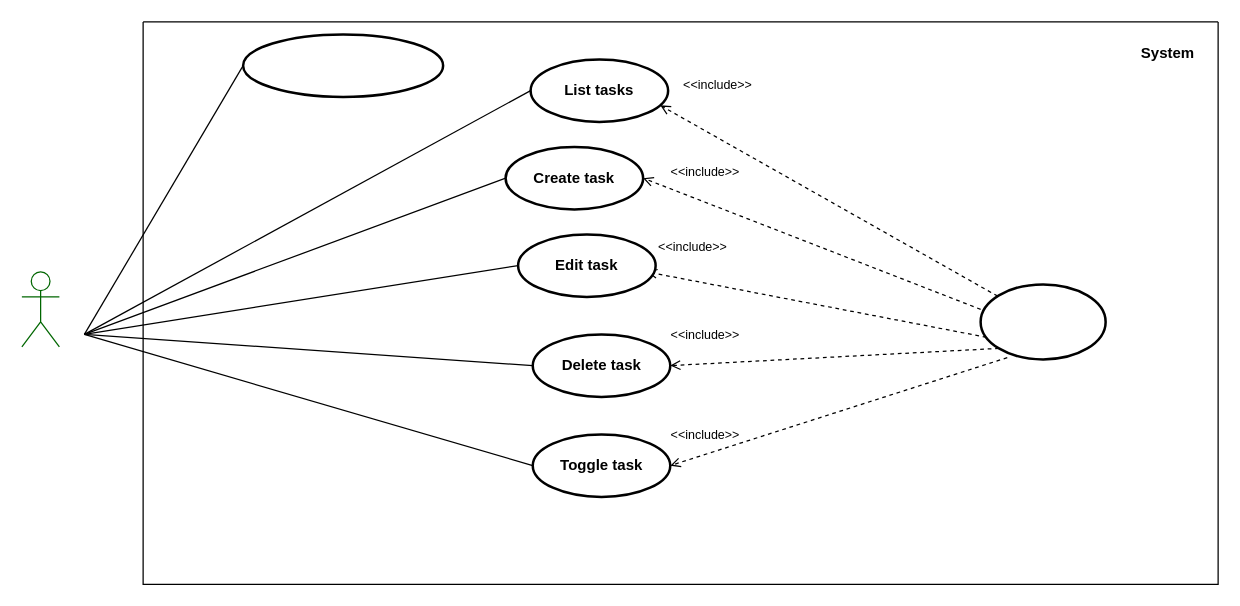
Some shapes in this 1240 by 606 pixel diagram are drawn without their labels. Here are the shapes that lost their labels. From the top down, the centre of each, then its label:
At pixel 342 65: "View Homepage".
At pixel 40 309: "User".
At pixel 1042 321: "Login".
